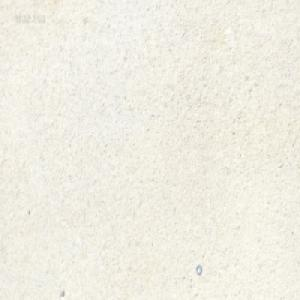Washer: (195, 264, 201, 275)
